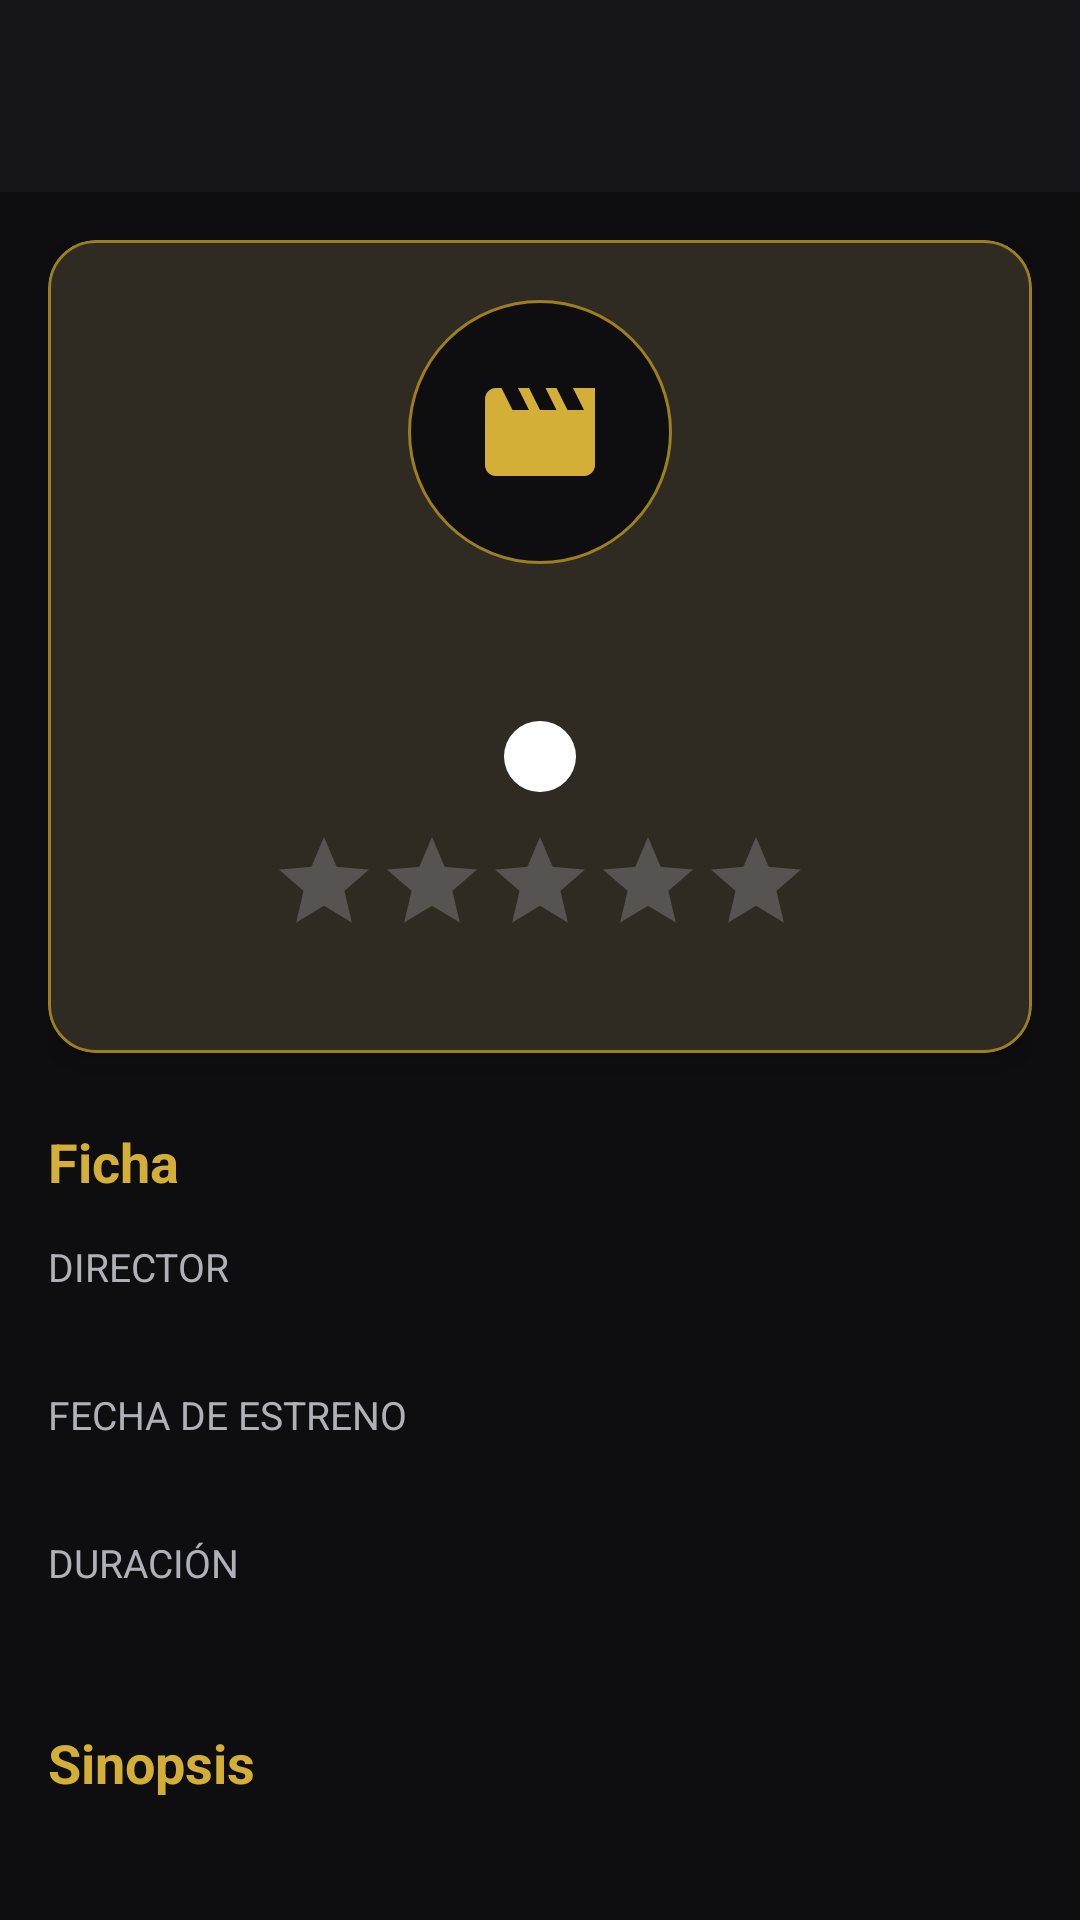

Named icons in this screenshot (1080×1920) and their bounding boxes, (x1, y1, x2, y2):
movie: (408, 300, 672, 564)
